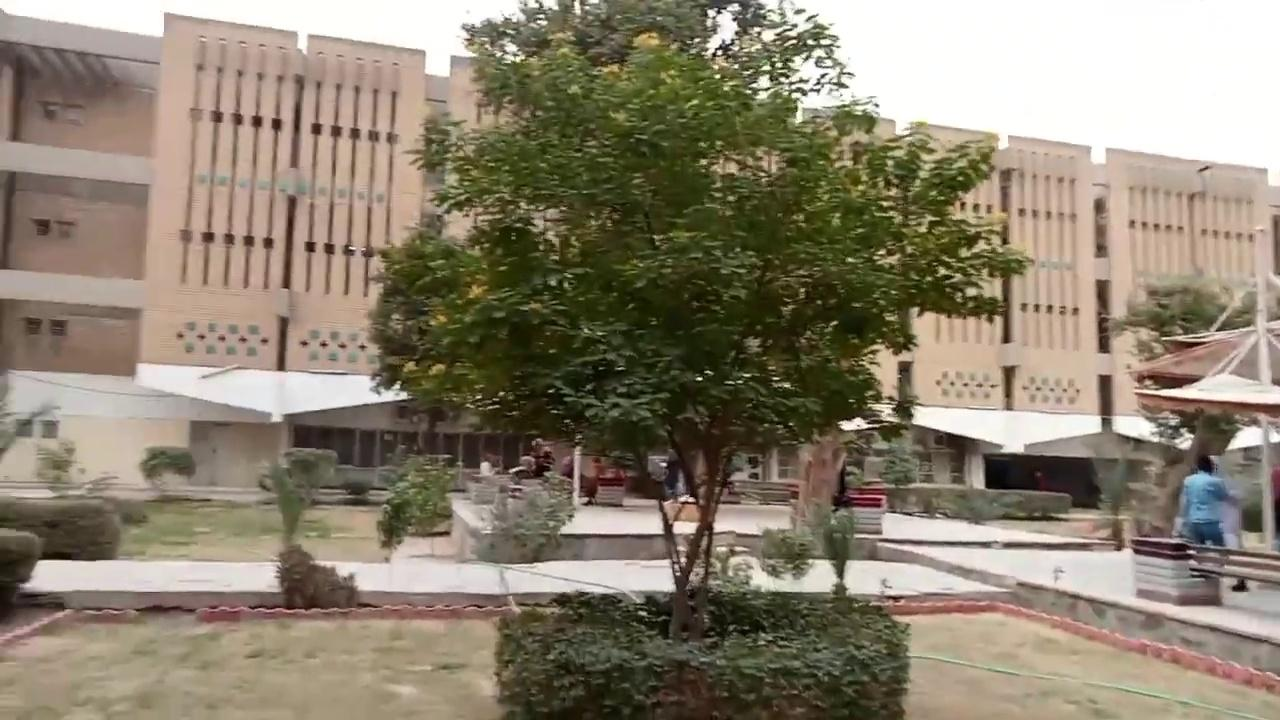person: (1175, 453, 1232, 546)
tree: (365, 1, 1032, 641), (492, 580, 912, 718), (375, 452, 459, 560), (138, 446, 196, 487)
